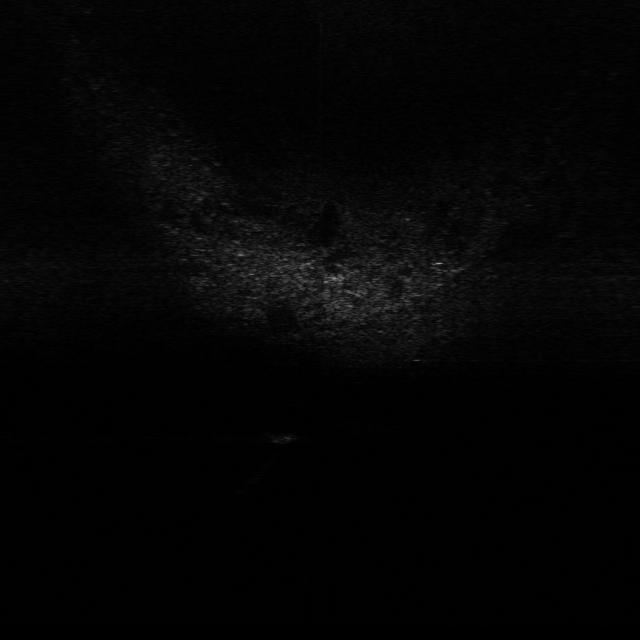cube: (262, 429, 304, 446)
